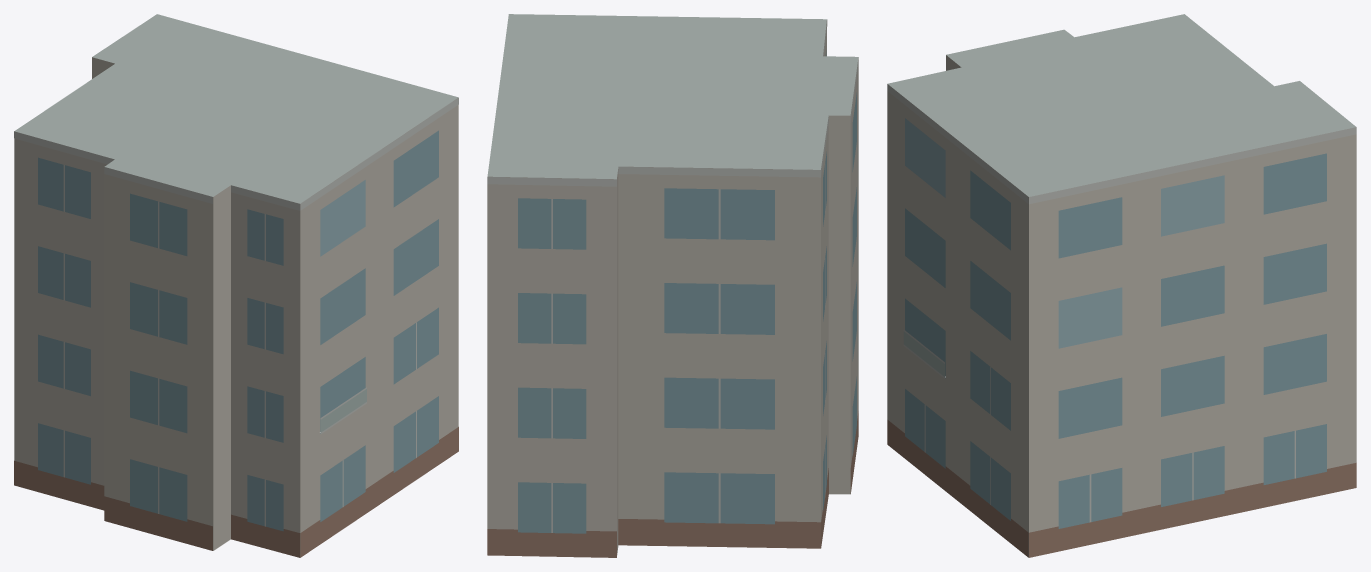
Rendered from survey-upis-32979311.glb.
3 views of the same model, side by side, from view 1: azimuth 30°, elevation 25°; view 2: azimuth 150°, elevation 25°; view 3: azimuth 270°, elevation 25° (orthographic). The views are drawn at different scales.
Parts seen in each view (by area): view 1: survey-upis-32979311.tmp; view 2: survey-upis-32979311.tmp; view 3: survey-upis-32979311.tmp.
Part boxes in pixels (x1,y1,x2,y2): survey-upis-32979311.tmp: (14, 14, 458, 557); survey-upis-32979311.tmp: (487, 14, 858, 557); survey-upis-32979311.tmp: (887, 14, 1356, 557).
Size of the model in its own units: 13.23 by 12.15 by 14.33.
